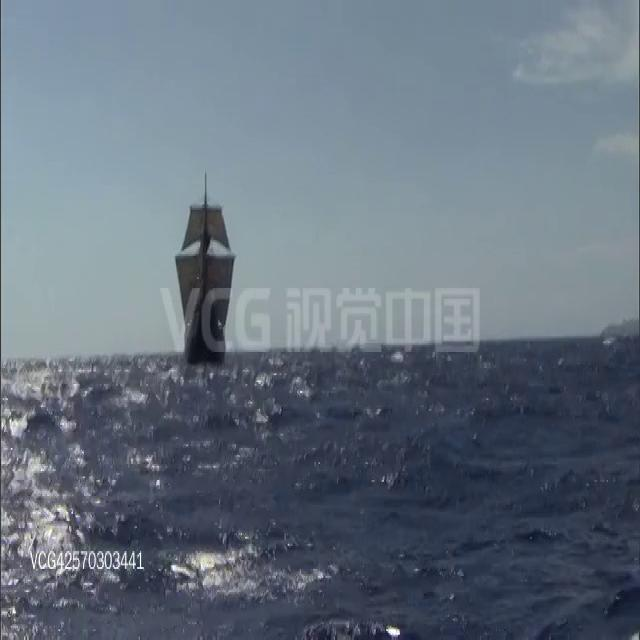sailboat: (174, 170, 238, 366)
